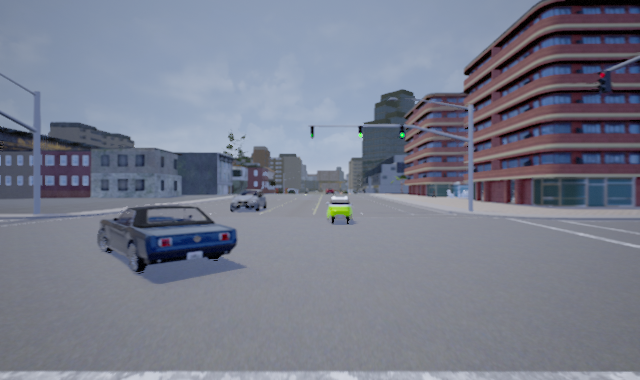vehicle: (96, 202, 237, 273), (227, 189, 268, 212), (325, 195, 355, 224)
